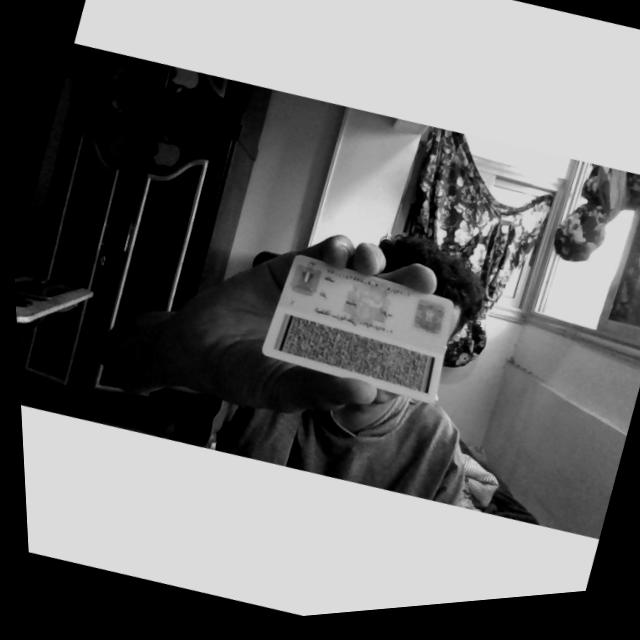back: (262, 255, 455, 403)
